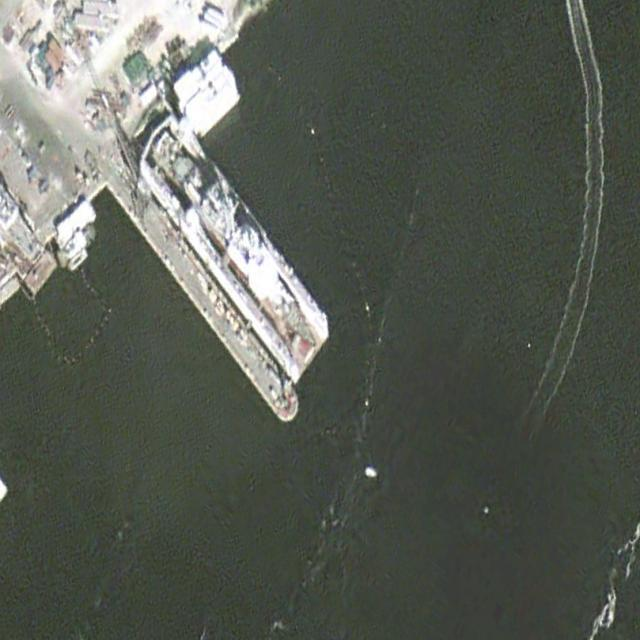Other Warship: (149, 122, 330, 354)
